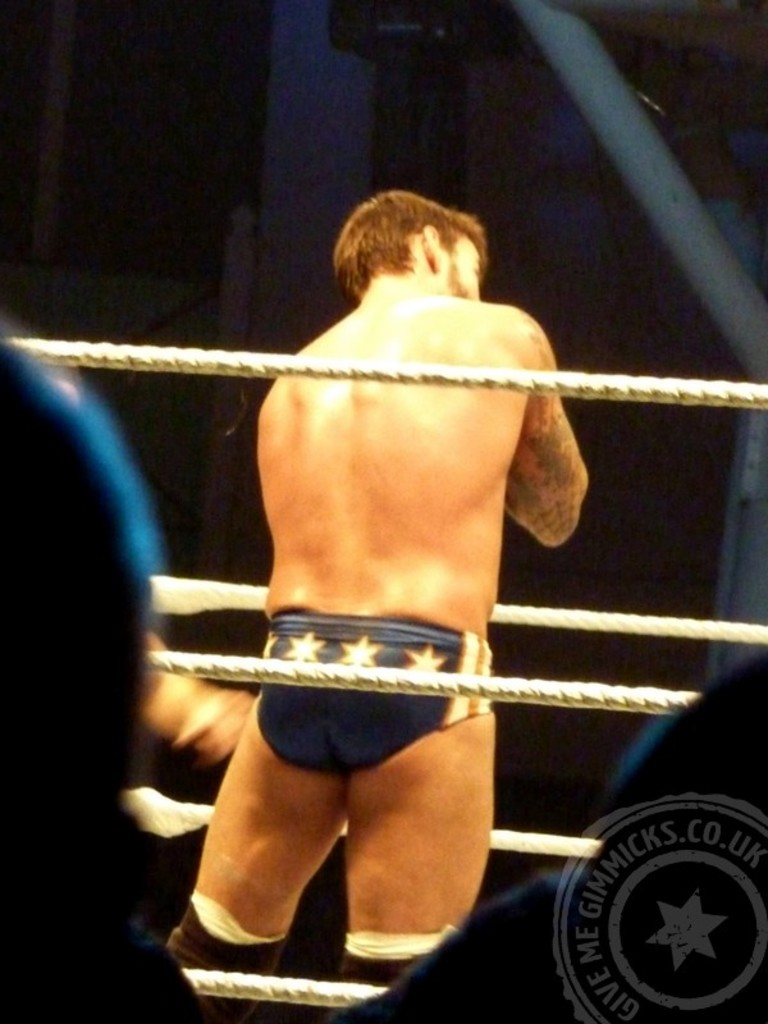face: (407, 227, 482, 348)
